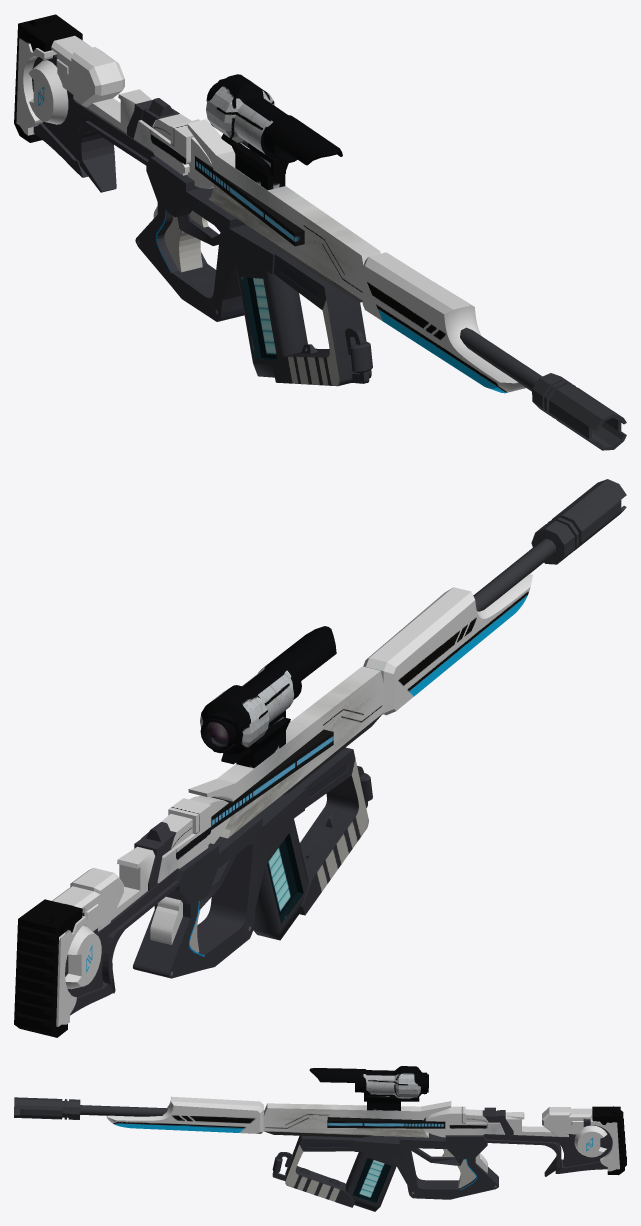
Rendered from Sniper.fbx.
The picture shows the model from 3 angles, top to bottom: view 1: azimuth 30°, elevation 25°; view 2: azimuth 150°, elevation 25°; view 3: azimuth 270°, elevation 25°; orthographic projection. The views are drawn at different scales.
Visible parts, largest first — view 1: polySurface41; view 2: polySurface41; view 3: polySurface41.
Boxes of the visible parts, <box> form: polySurface41: <box>14,14,626,450</box>; polySurface41: <box>14,479,626,1037</box>; polySurface41: <box>14,1066,626,1211</box>.
Size of the model in its own units: 168 by 821 by 3204.
4 materials, 4 textured.
